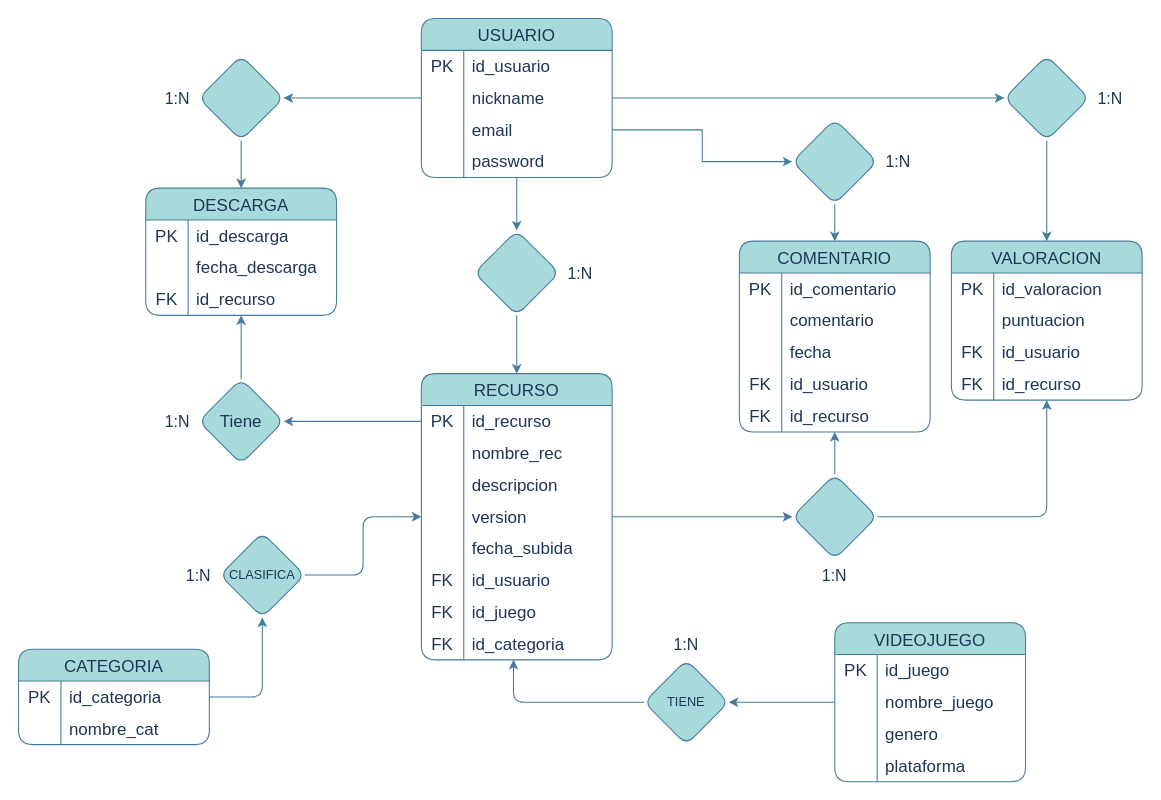
The diagram is 1161 pixels wide and 800 high, and some of its shapes have lost their labels. Each missing label, with the centre of its shape:
ESCRIBE: pixel 834 161
PONE: pixel 1046 97
REALIZA: pixel 241 97
RECIBE: pixel 834 516
SUBE: pixel 516 272
